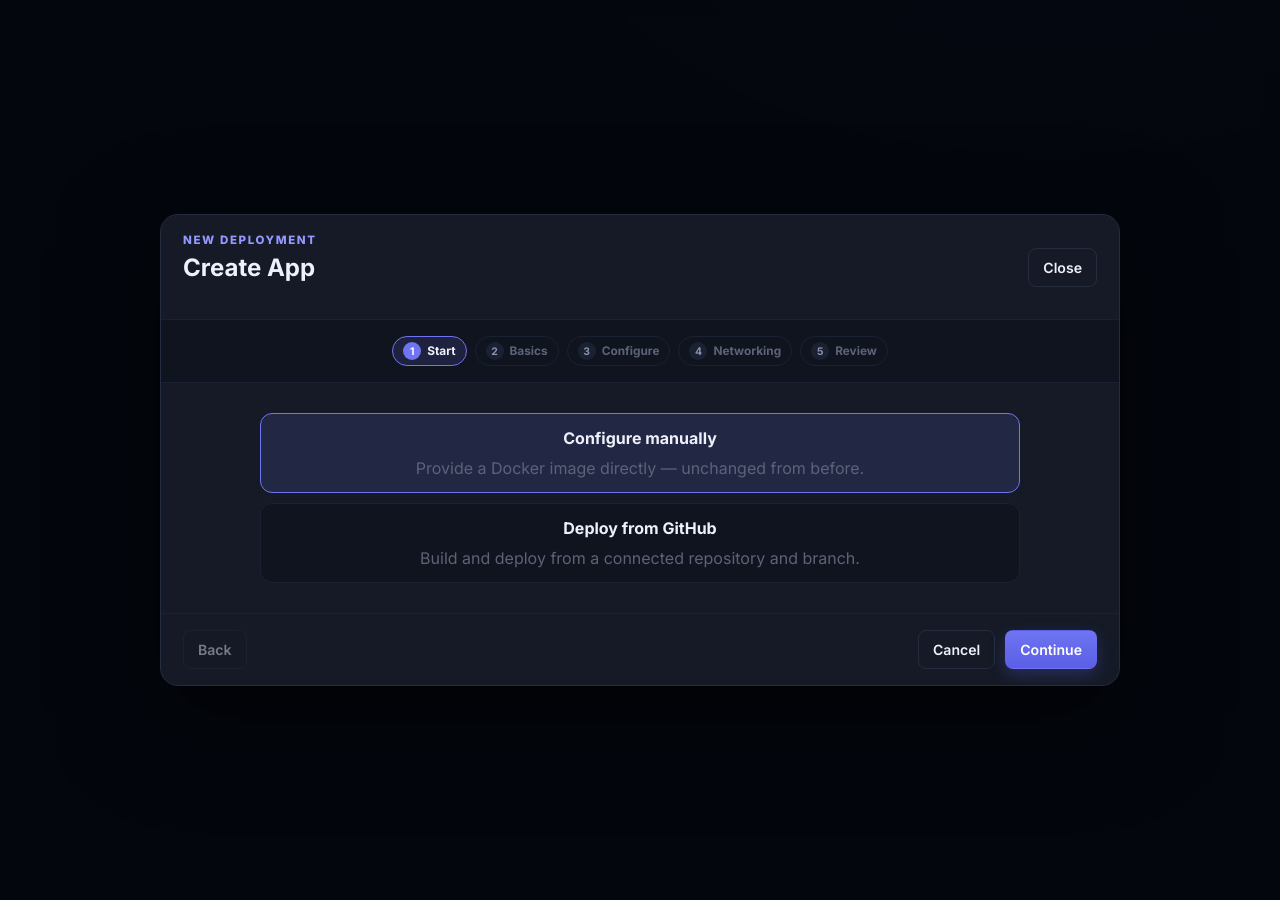
it: CreateAppWizard — repository loading, pagination, and search › has a repository search input
The image size is (1280, 900).
Click the text "Deploy from GitHub": (640, 528) [563,518,717,538]
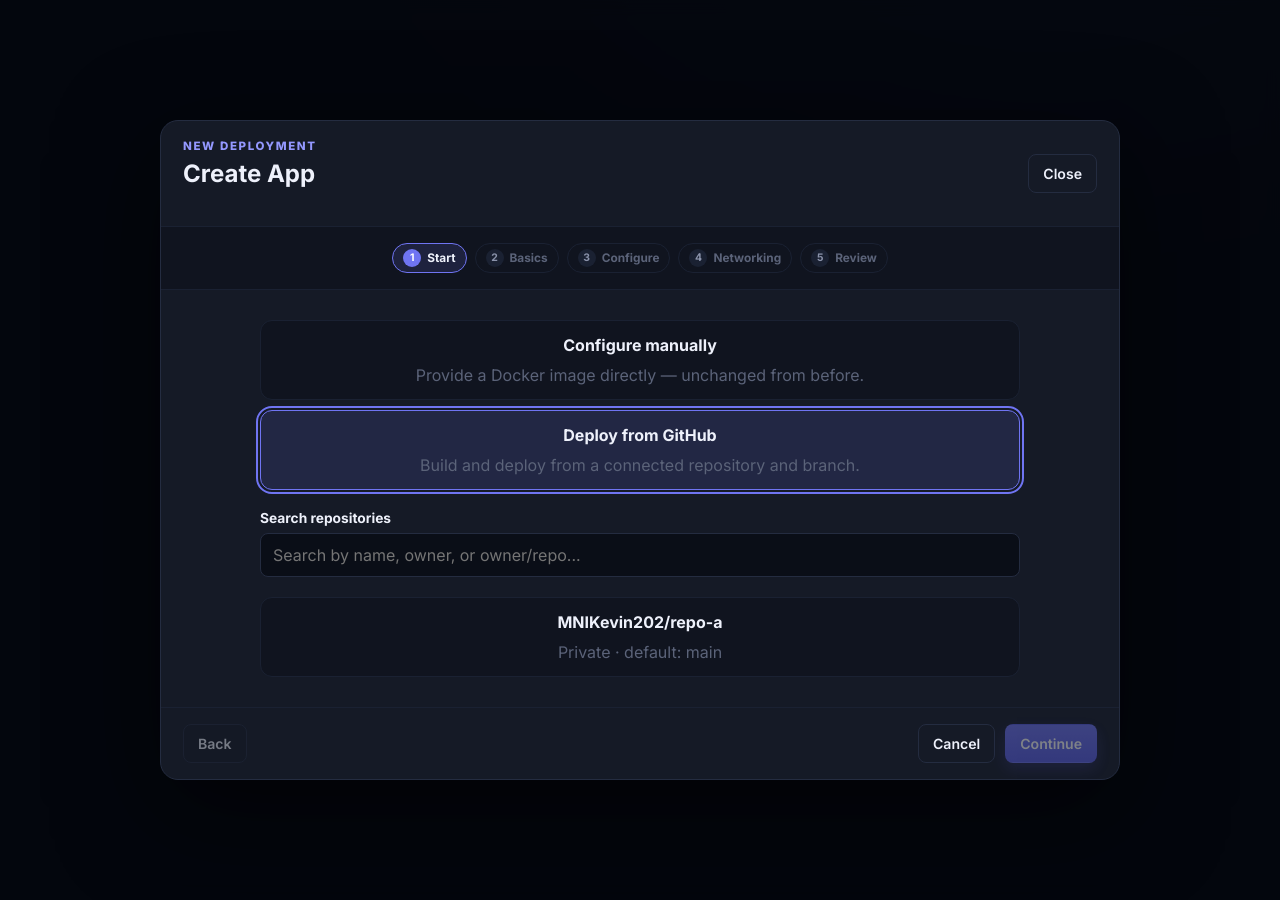
Check: the field with placeholder "Search by name, owner, or owner/repo..." is shown, box [260,533,1020,577]
